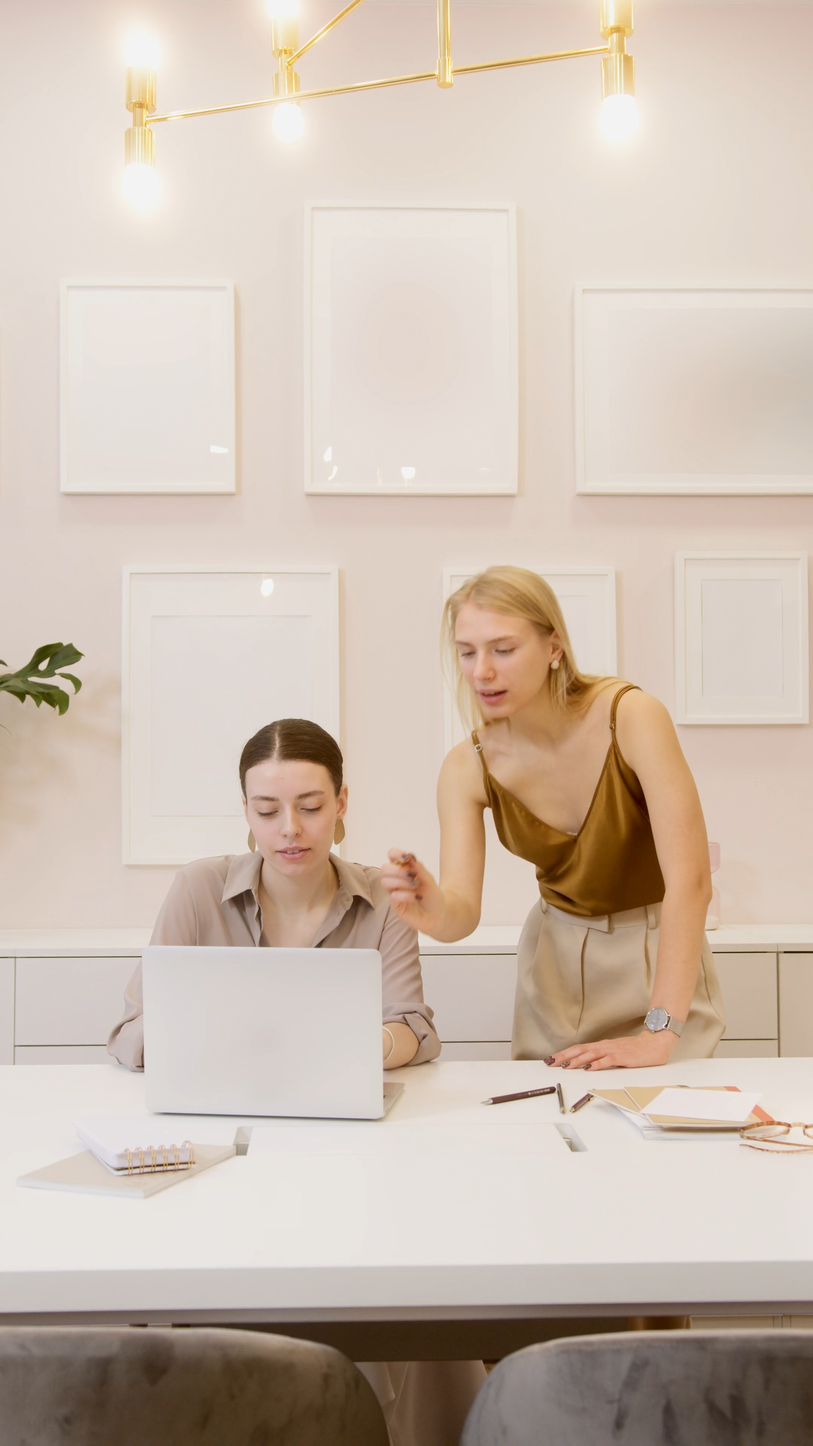No-gloves: (542, 1015, 705, 1081), (375, 836, 459, 930)
